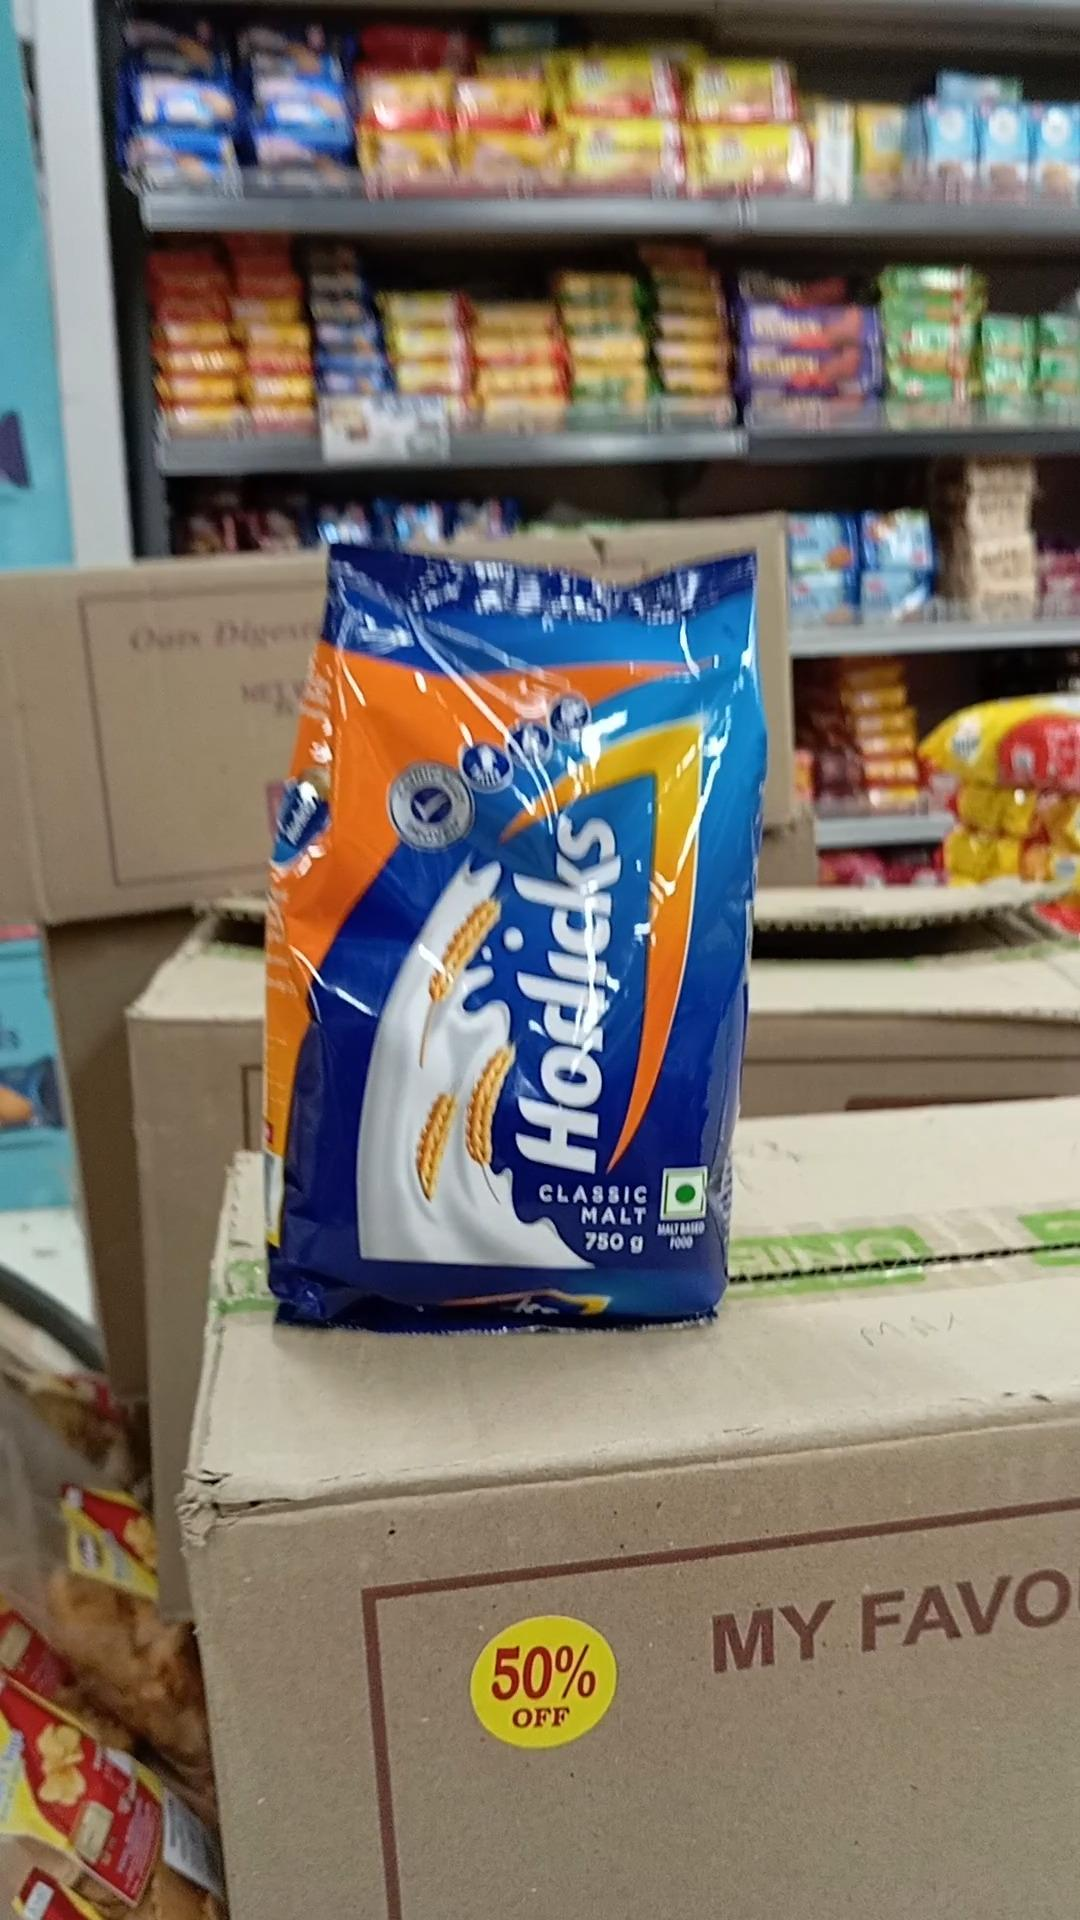HORLICK_CLASSIC_MALT_750_G_POUCH: (309, 533, 731, 1327)
